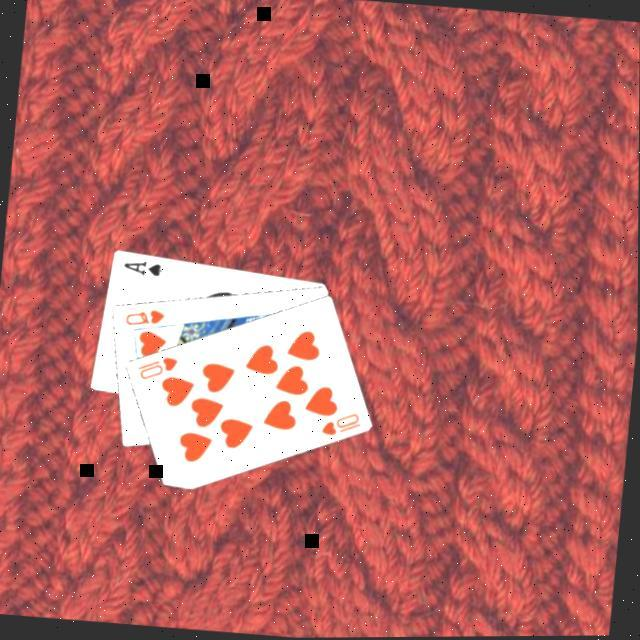10H: (136, 349, 183, 384), (319, 406, 367, 440)
AS: (121, 254, 168, 278)
QH: (122, 302, 170, 330)
